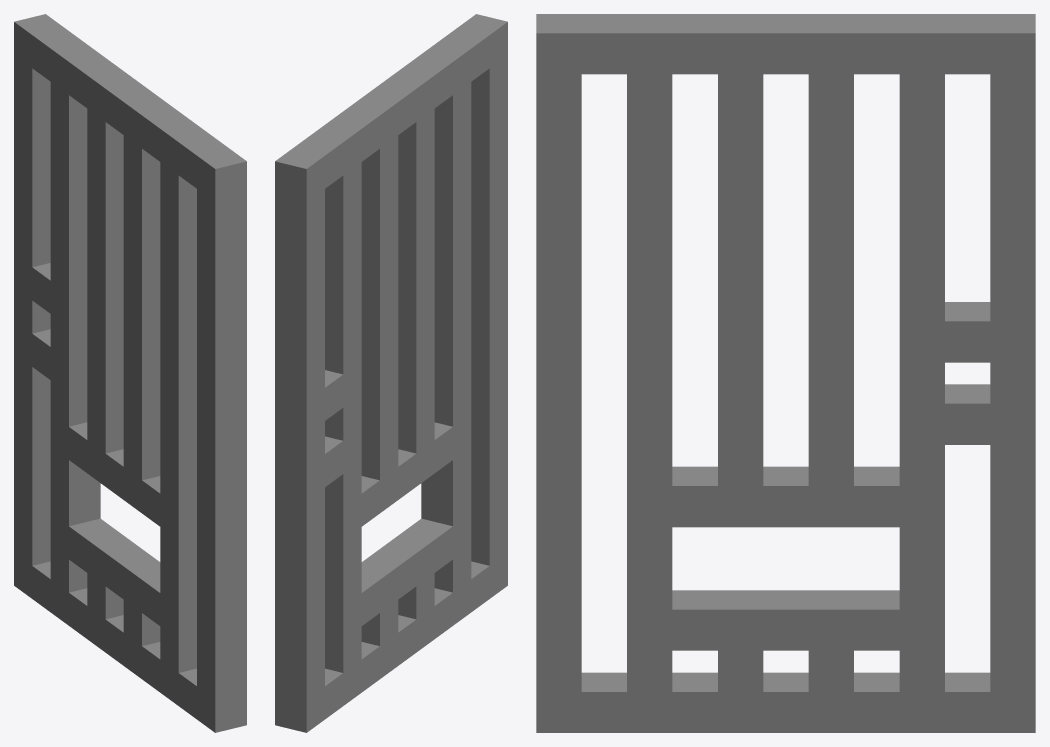
File: Jail Door.obj
The picture shows the model from 3 angles, left to right: view 1: azimuth 30°, elevation 25°; view 2: azimuth 150°, elevation 25°; view 3: azimuth 270°, elevation 25°; orthographic projection. The views are drawn at different scales.
Parts seen in each view (by area): view 1: Jail Door; view 2: Jail Door; view 3: Jail Door.
Part boxes in pixels (bbox=[...]): Jail Door: bbox=[14, 14, 246, 732]; Jail Door: bbox=[275, 14, 507, 732]; Jail Door: bbox=[536, 14, 1035, 732].
Size of the model in its own units: 1 by 17 by 11.
